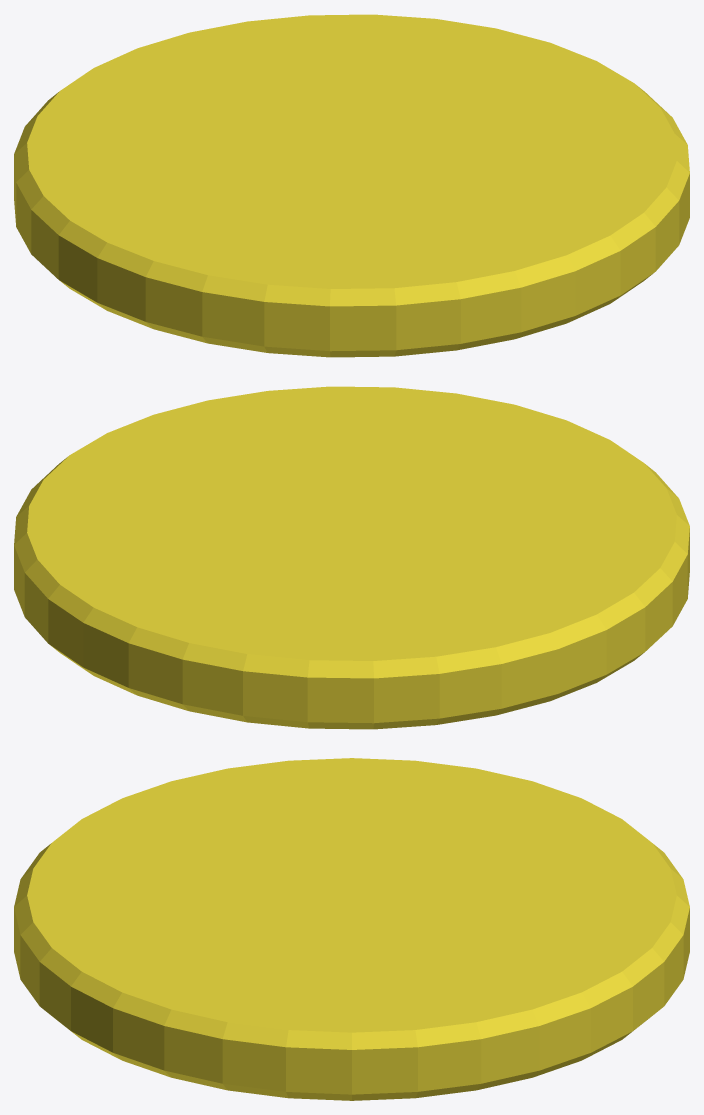
Rendered from coin.fbx.
The picture shows the model from 3 angles, top to bottom: view 1: azimuth 30°, elevation 25°; view 2: azimuth 150°, elevation 25°; view 3: azimuth 270°, elevation 25°; orthographic projection.
Visible parts, largest first — view 1: Circle; view 2: Circle; view 3: Circle.
Part boxes in pixels (x1,y1,x2,y2): Circle: (14, 14, 689, 357); Circle: (14, 386, 689, 729); Circle: (14, 758, 689, 1100).
Bounding box in the file's own units: 212 × 23.6 × 212.
